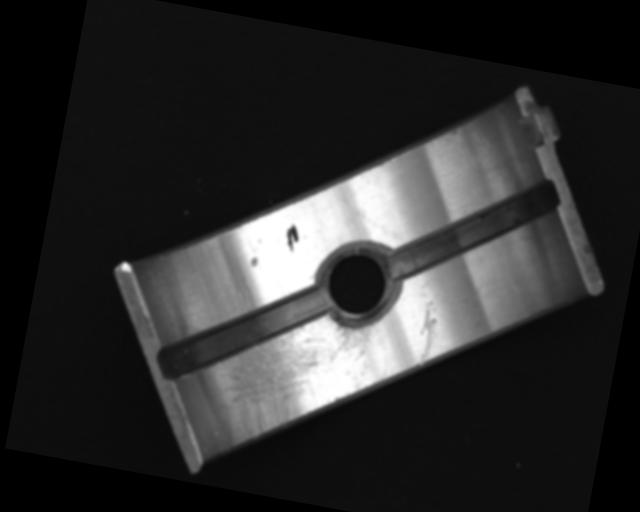blot: (283, 221, 302, 253)
bruise: (248, 254, 260, 270)
gap: (384, 156, 561, 304), (153, 264, 328, 401)
hole: (310, 238, 404, 332)
nick: (411, 299, 443, 368)
scratch: (214, 299, 379, 470)
